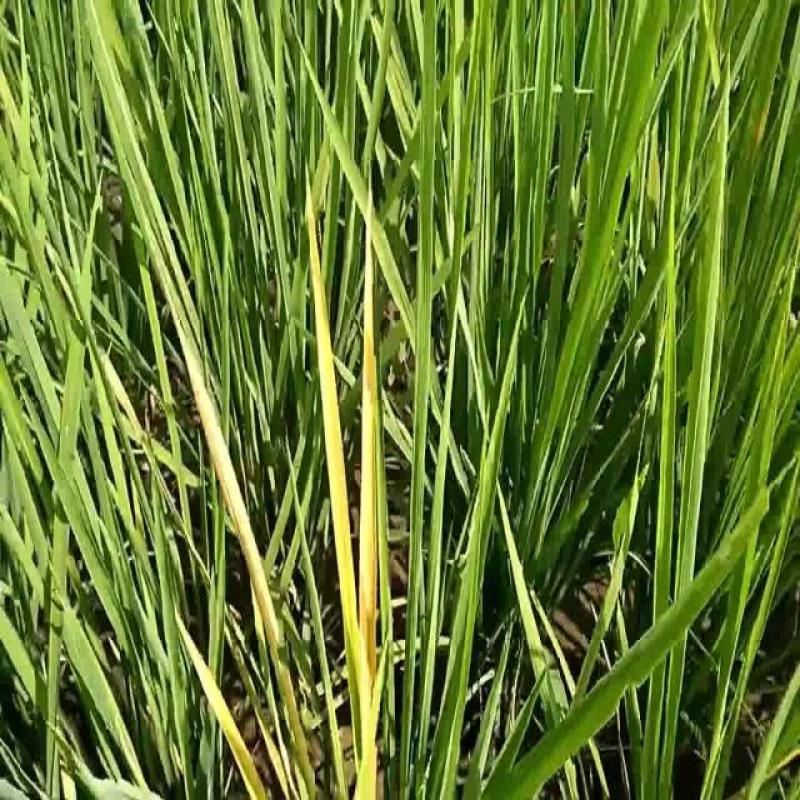Rice Tungro: (152, 252, 290, 658), (299, 154, 359, 646), (166, 600, 272, 800), (355, 151, 385, 731)
